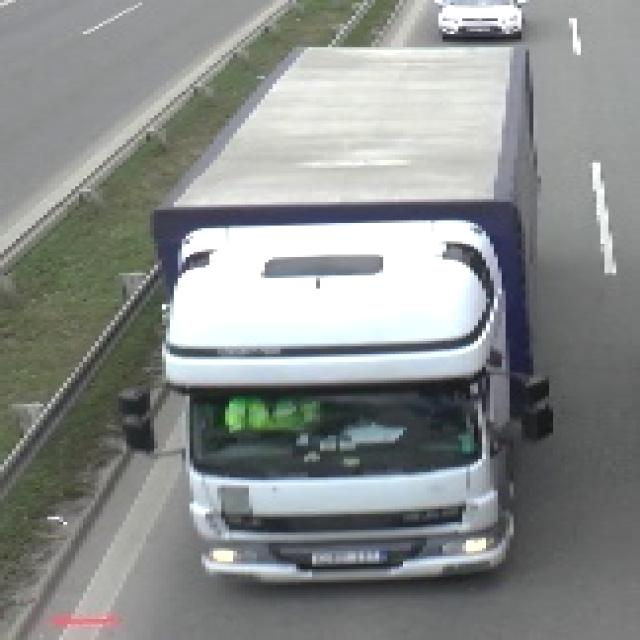TRUCK: (154, 48, 553, 592)
